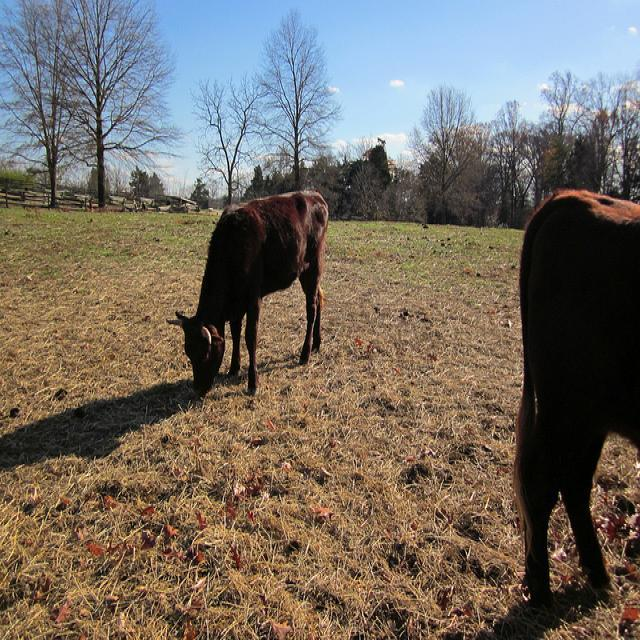cow: (510, 185, 639, 628), (165, 189, 328, 396)
